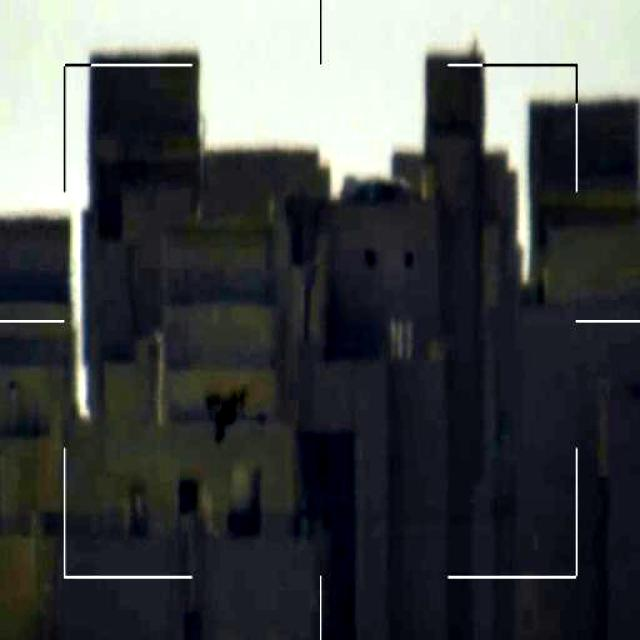bird: (199, 381, 262, 445)
